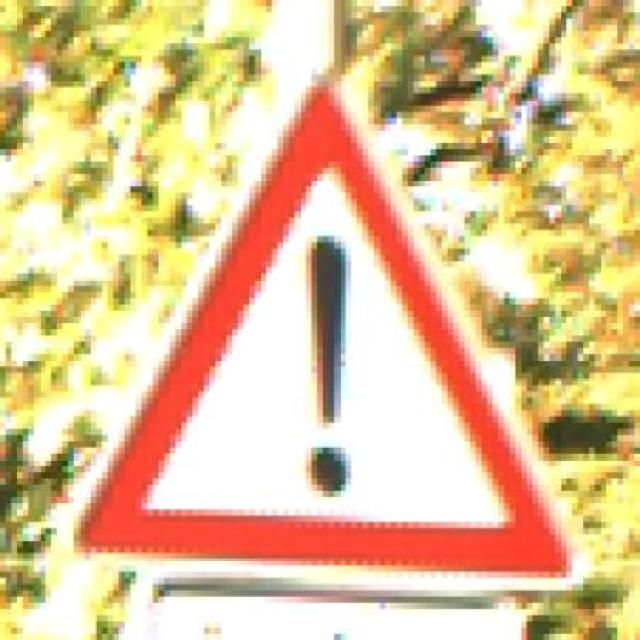Attention Please-: (50, 55, 561, 596)
